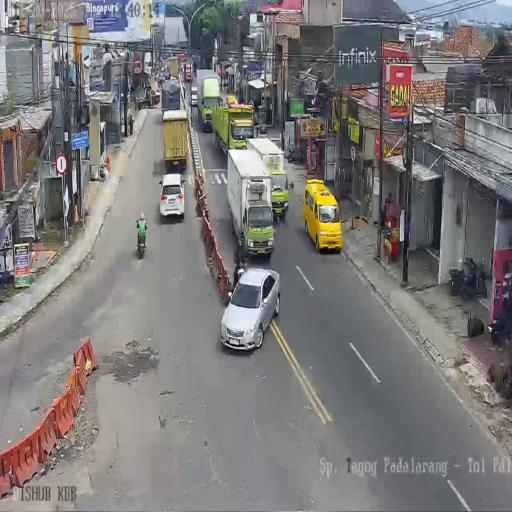car: (220, 268, 280, 351), (305, 178, 344, 253), (158, 173, 184, 219), (269, 172, 289, 218), (190, 86, 198, 106), (154, 87, 160, 104)
motorcycle: (489, 289, 512, 343), (286, 146, 304, 165)
truck: (227, 147, 273, 260), (212, 100, 254, 156), (162, 108, 189, 172), (198, 70, 222, 131), (166, 56, 178, 78), (184, 62, 194, 82)
